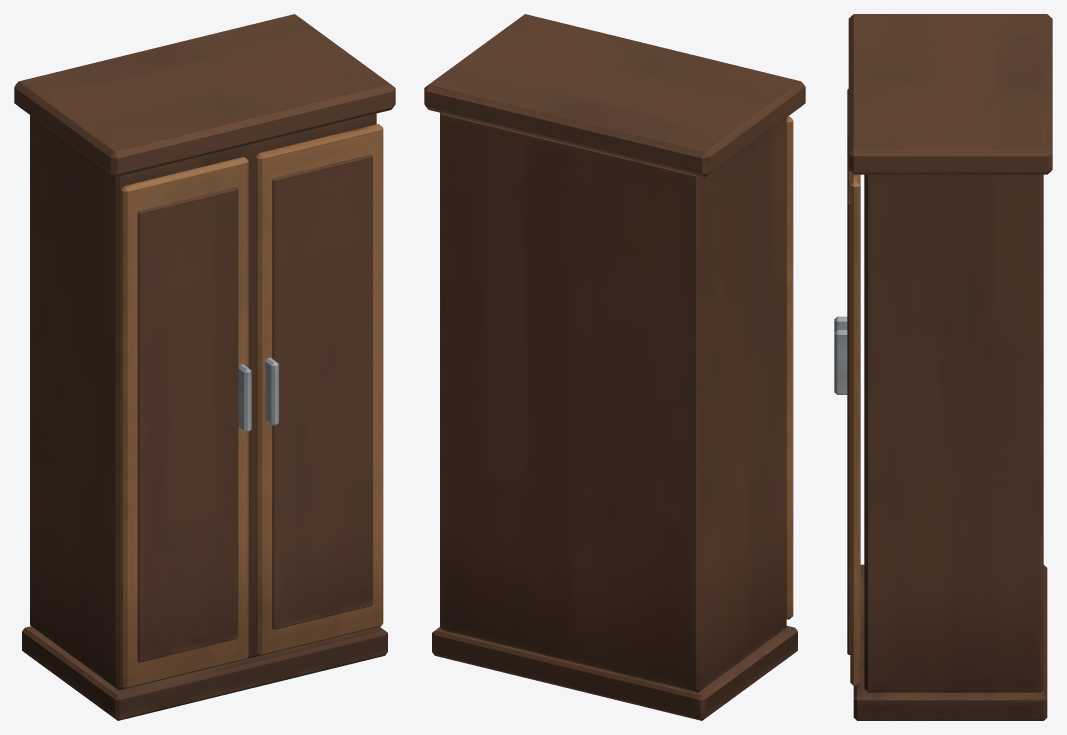
File: wardrobe.glb
3 renders of one model, left to right at view 1: azimuth 30°, elevation 25°; view 2: azimuth 150°, elevation 25°; view 3: azimuth 270°, elevation 25°, orthographic.
Parts seen in each view (by area): view 1: wardrobe; view 2: wardrobe; view 3: wardrobe.
Boxes of the visible parts, x1,y1,x2,y2 form: wardrobe: (14, 14, 395, 720); wardrobe: (424, 14, 805, 720); wardrobe: (834, 14, 1052, 720).
Size of the model in its own units: 0.94 by 1.8 by 0.62.
3 materials, 3 textured.
